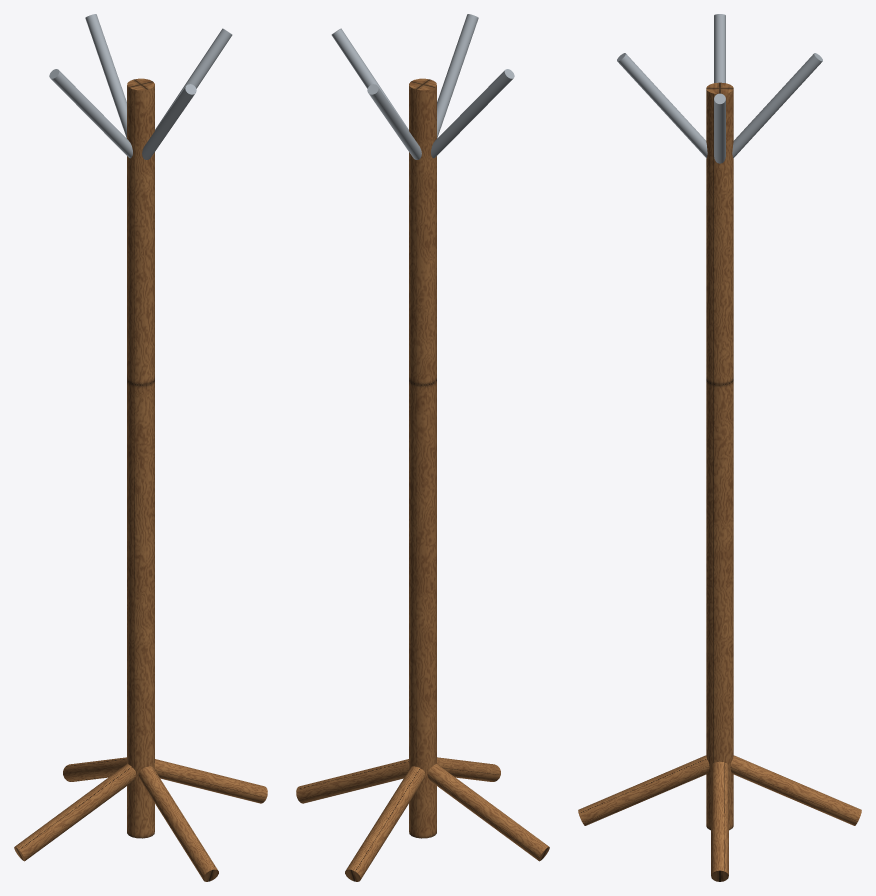
File: Ruhatarto_allo.obj
3 views of the same model, side by side, from view 1: azimuth 30°, elevation 25°; view 2: azimuth 150°, elevation 25°; view 3: azimuth 270°, elevation 25° (orthographic).
Bounding box in the file's own units: 0.5754 × 1.73 × 0.5754.
2 materials, 1 textured.
